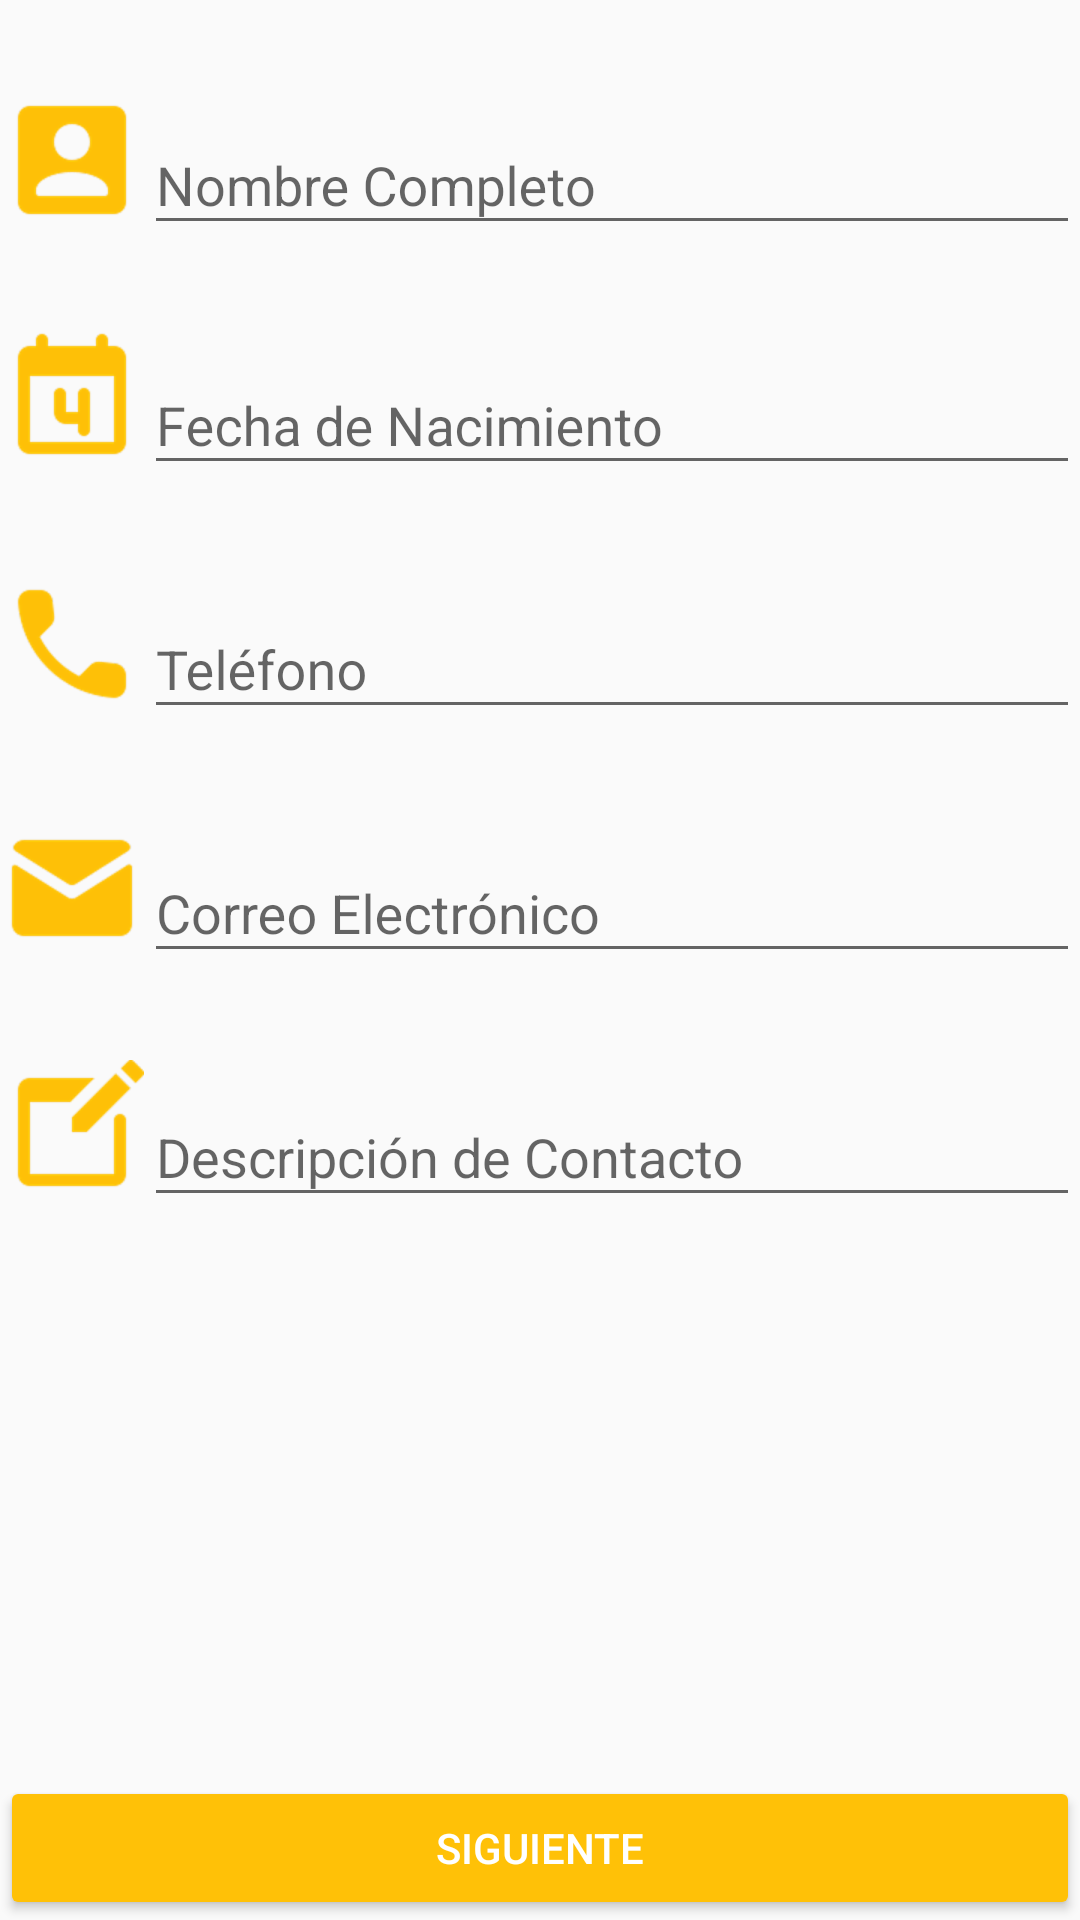

Where to tap for icons on this 1080×1920 app screen, as point (x, y):
descripcion: point (80, 1123)
telefono: point (72, 644)
